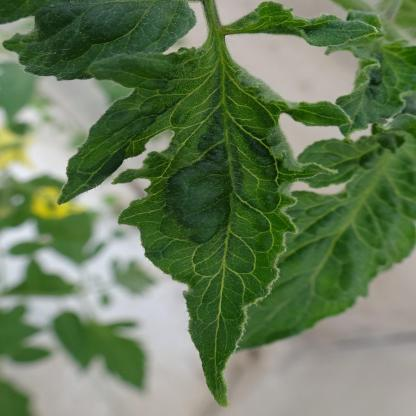T_L_R: (60, 1, 350, 406)
